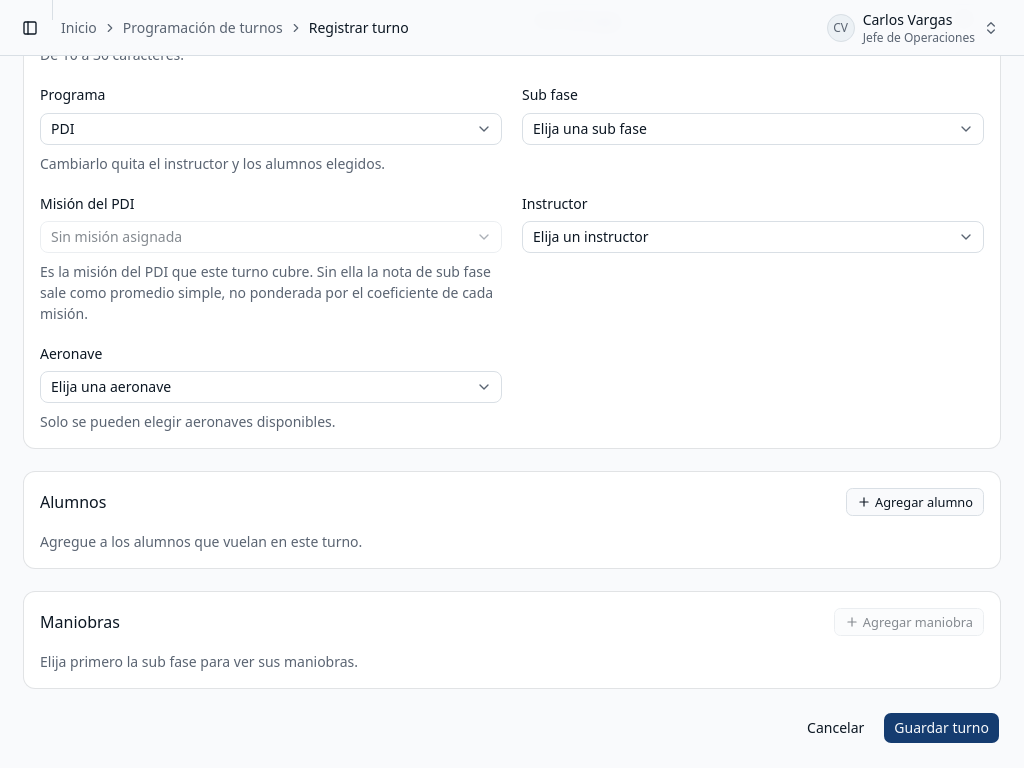
Test: Registrar turno › CA-TUR-04 y CA-TUR-09 exigen alumnos, maniobras, instructor y aeronave
This screenshot has width=1024, height=768.
(page scrolled)
Click the button "Guardar turno". click: (942, 728)
box: [883,712,1000,744]
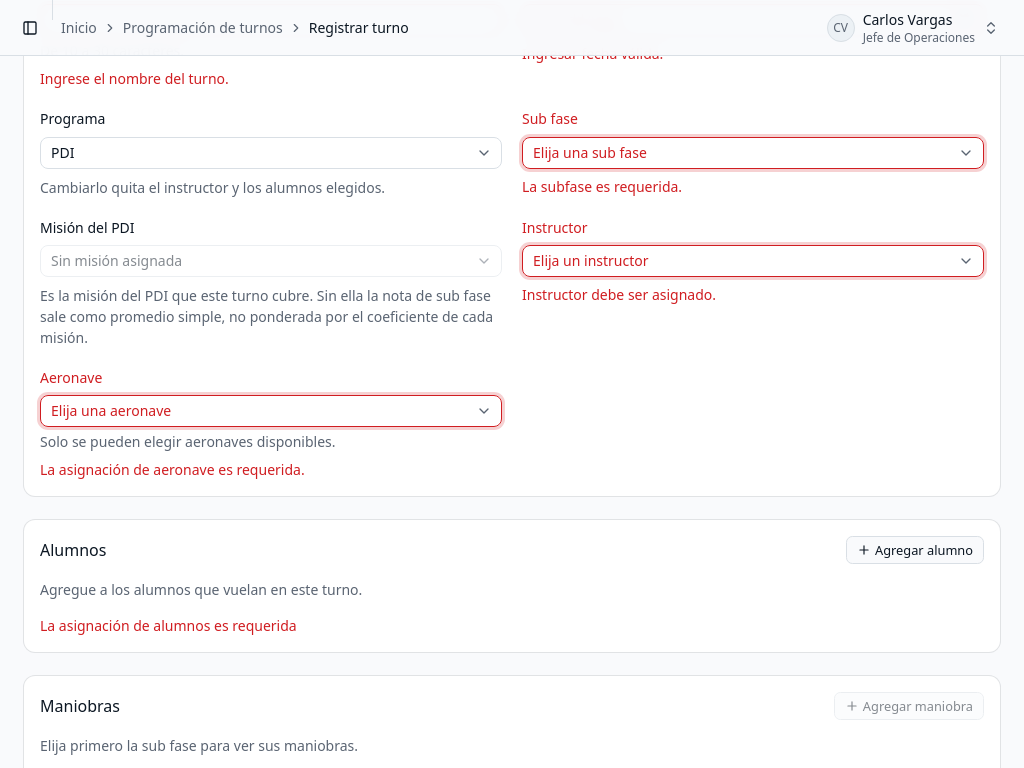
expect the text "La asignación de alumnos es requerida" is shown: met, box [40,616,297,635]
expect the text "Instructor debe ser asignado." is shown: met, box [522,285,716,304]
expect the text "La asignación de aeronave es requerida." is shown: met, box [40,460,305,479]
